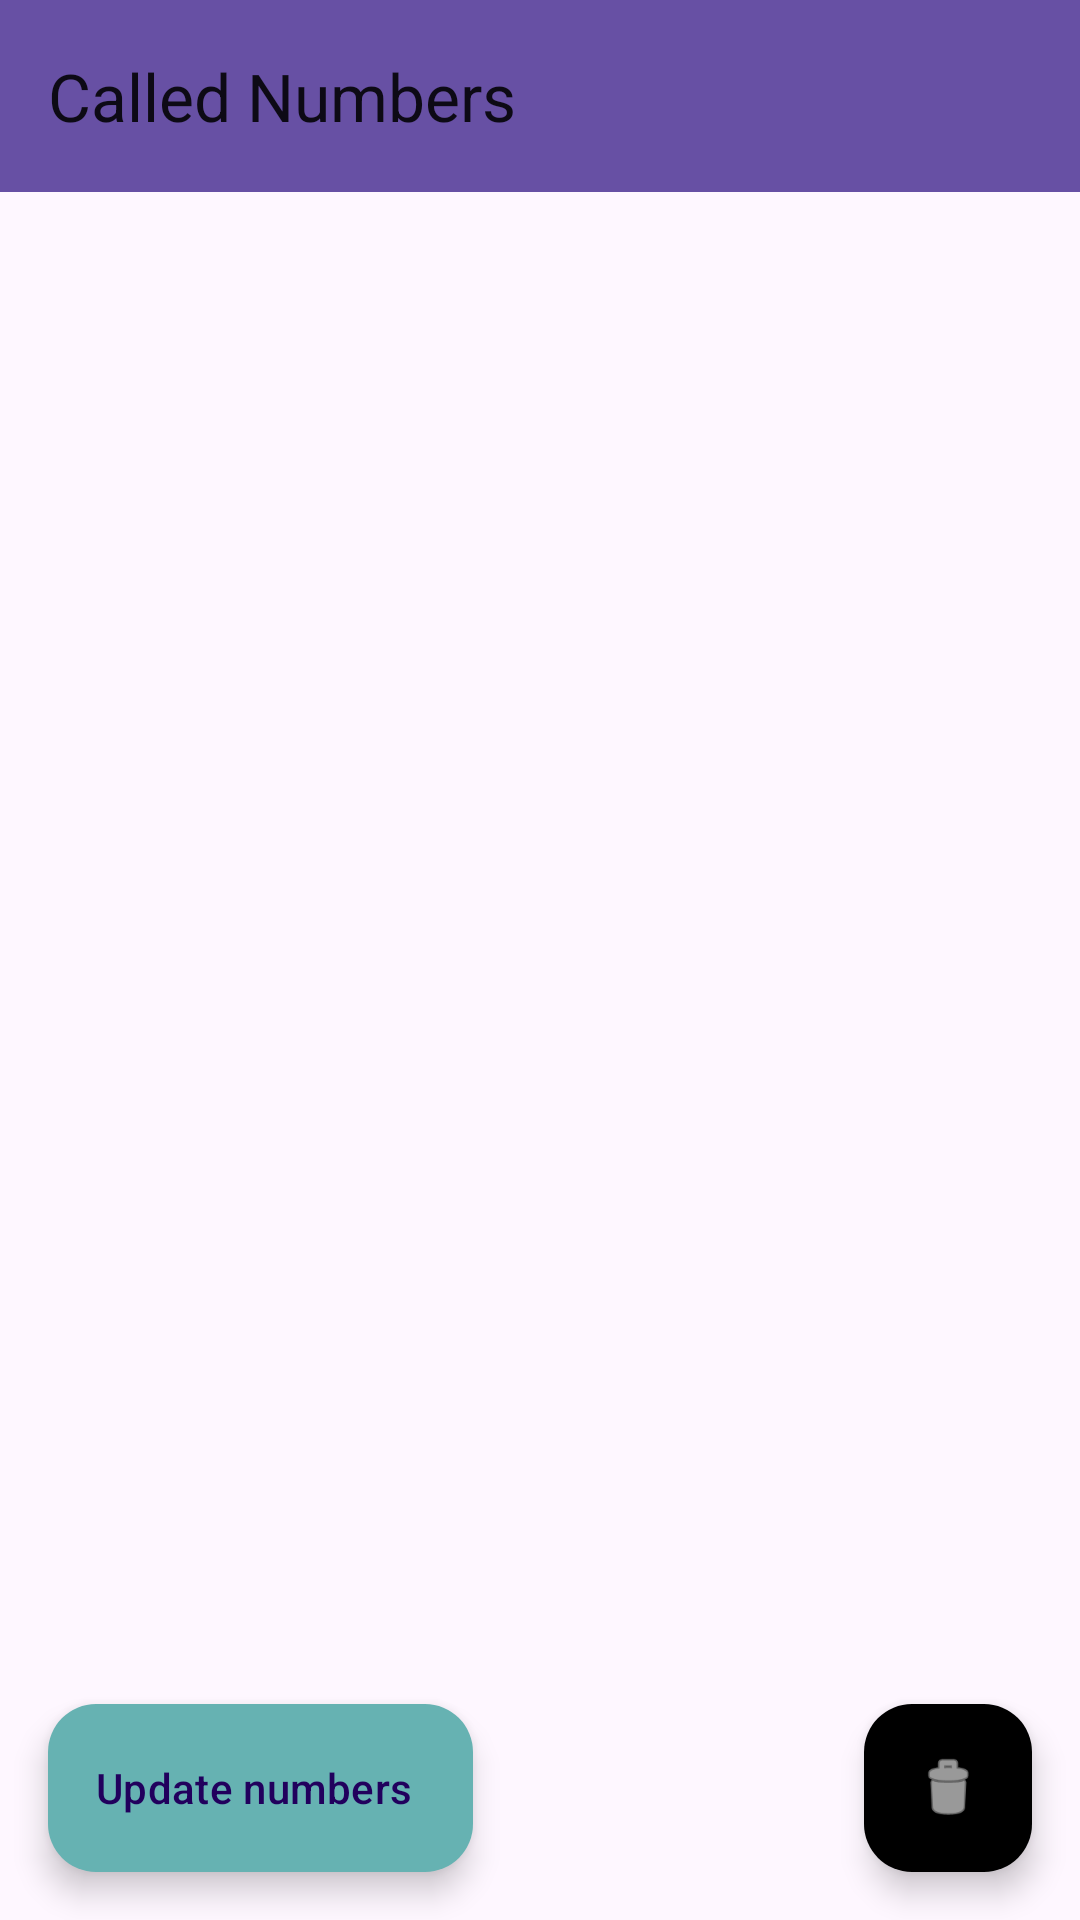

Icons on this 1080 x 1920 Android screen, each with the point to tap as (x,y):
Clear all: (948,1788)
